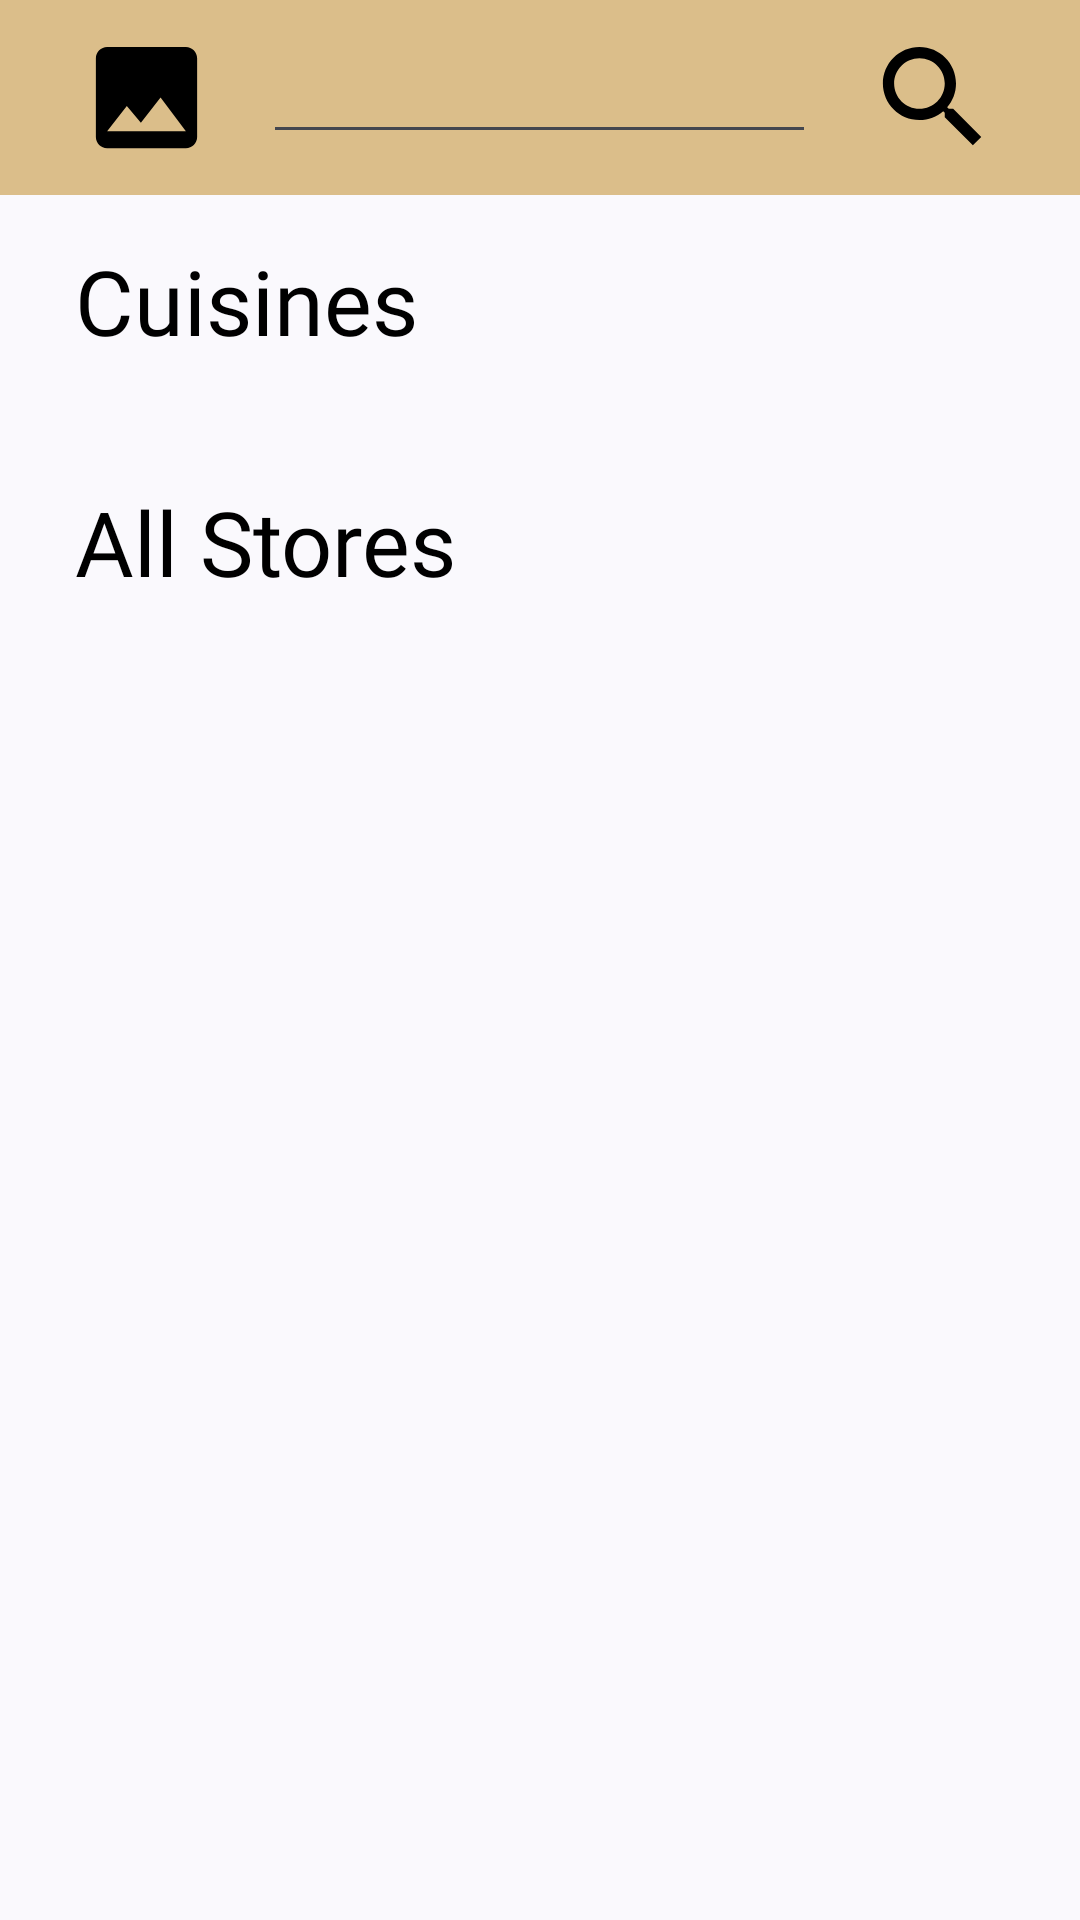

Named icons in this screenshot (1080w x 1920h) and their centers, (x,y):
searchic: (931,96)
